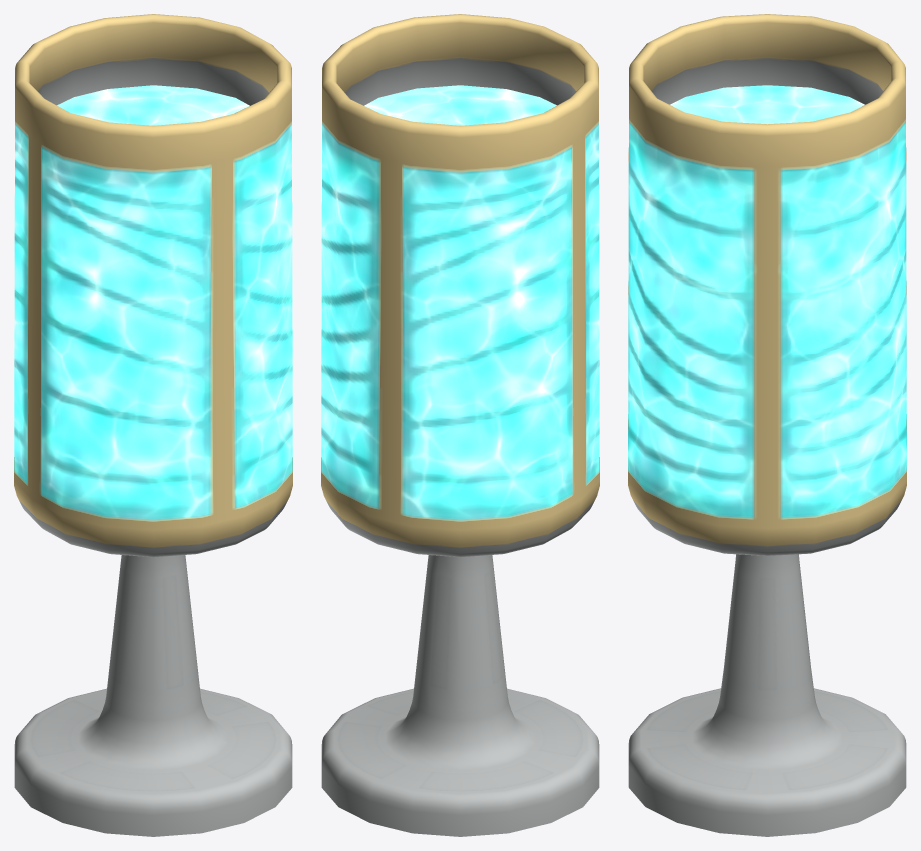
File: BarCocktails01_2.FBX
The picture shows the model from 3 angles, left to right: view 1: azimuth 30°, elevation 25°; view 2: azimuth 150°, elevation 25°; view 3: azimuth 270°, elevation 25°; orthographic projection.
Parts seen in each view (by area): view 1: BarCocktails01_2; view 2: BarCocktails01_2; view 3: BarCocktails01_2.
Boxes of the visible parts, box(x1,y1,x2,y2) form: BarCocktails01_2: box(14, 14, 292, 836); BarCocktails01_2: box(321, 14, 599, 836); BarCocktails01_2: box(628, 14, 906, 836).
Size of what is drawn, in the model's own units: 0.0707 by 0.1947 by 0.0696.
